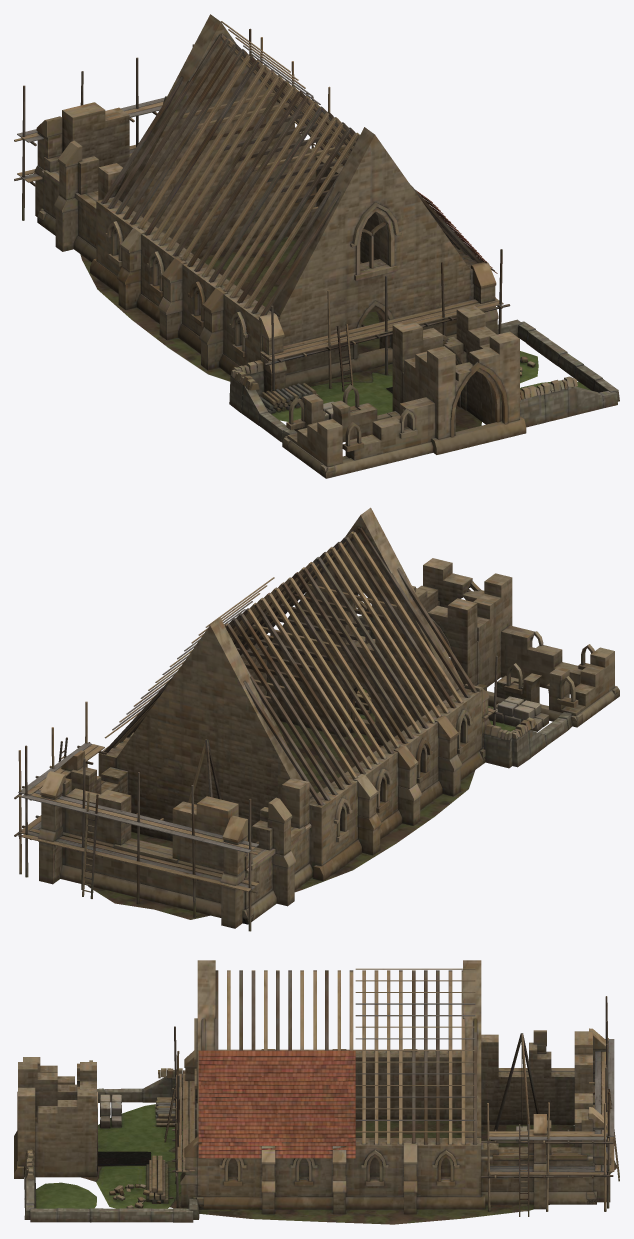
Rendered from hospital_build2.glb.
3 renders of one model, top to bottom at view 1: azimuth 30°, elevation 25°; view 2: azimuth 150°, elevation 25°; view 3: azimuth 270°, elevation 25°, orthographic. The views are drawn at different scales.
Visible parts, largest first — view 1: hospital_build2_LOD0; view 2: hospital_build2_LOD0; view 3: hospital_build2_LOD0.
Boxes of the visible parts, x1,y1,x2,y2 form: hospital_build2_LOD0: (14,14,619,478); hospital_build2_LOD0: (14,507,619,931); hospital_build2_LOD0: (14,960,619,1224).
Size of what is drawn, in the model's own units: 15 by 10.93 by 29.88.
1 material, 1 textured.
